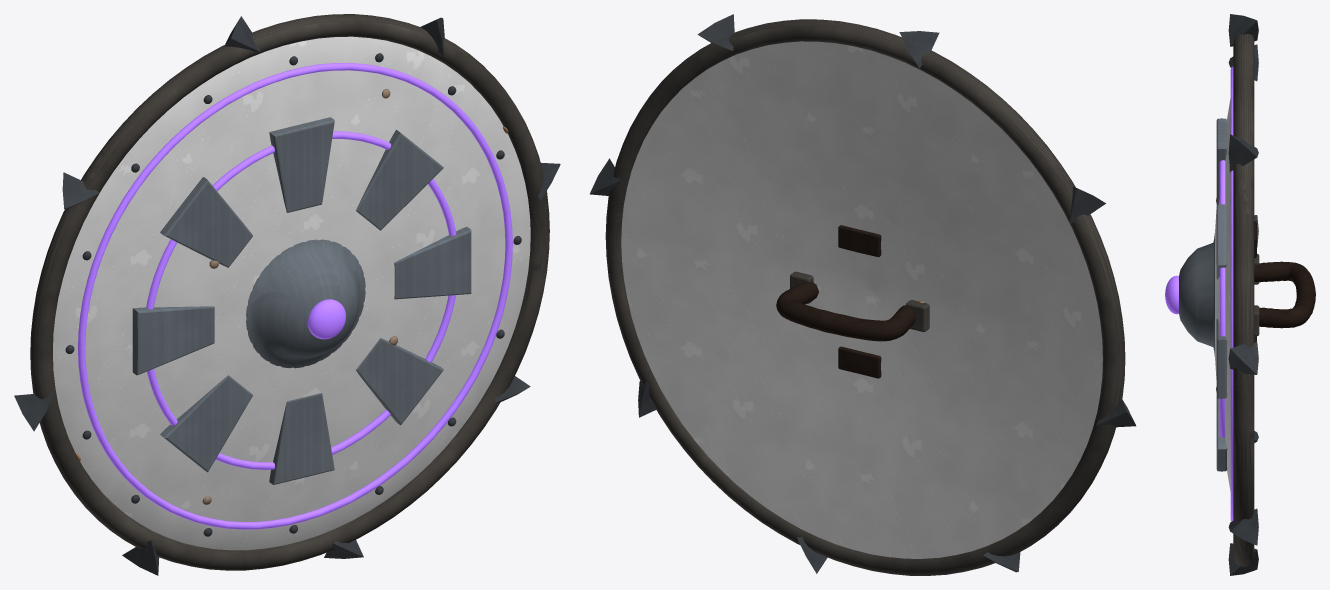
Rendered from void-disc.glb.
3 views of the same model, side by side, from view 1: azimuth 30°, elevation 25°; view 2: azimuth 150°, elevation 25°; view 3: azimuth 270°, elevation 25° (orthographic). The views are drawn at different scales.
Visible parts, largest first — view 1: ceramic / ceramic composite panel, alloy / machined anodized alloy, iron / hammer-scaled wrought iron, energy / emissive field channel, darksteel / oil-blackened fittings; view 2: ceramic / ceramic composite panel, iron / hammer-scaled wrought iron, leather / oiled leather wrap, darksteel / oil-blackened fittings; view 3: iron / hammer-scaled wrought iron, alloy / machined anodized alloy, darksteel / oil-blackened fittings, energy / emissive field channel, leather / oiled leather wrap, ceramic / ceramic composite panel.
Part boxes in pixels (<box>): ceramic / ceramic composite panel: <box>53,36,530,550</box>; alloy / machined anodized alloy: <box>132,117,471,484</box>; iron / hammer-scaled wrought iron: <box>30,14,549,570</box>; energy / emissive field channel: <box>78,63,512,529</box>; darksteel / oil-blackened fittings: <box>14,16,560,575</box>; ceramic / ceramic composite panel: <box>621,41,1102,558</box>; iron / hammer-scaled wrought iron: <box>605,19,1125,575</box>; leather / oiled leather wrap: <box>776,225,915,378</box>; darksteel / oil-blackened fittings: <box>590,14,1135,573</box>; iron / hammer-scaled wrought iron: <box>1233,34,1259,566</box>; alloy / machined anodized alloy: <box>1179,118,1227,471</box>; darksteel / oil-blackened fittings: <box>1228,14,1258,575</box>; energy / emissive field channel: <box>1165,67,1233,521</box>; leather / oiled leather wrap: <box>1254,221,1315,342</box>; ceramic / ceramic composite panel: <box>1215,98,1230,491</box>.
Bounding box in the file's own units: 0.6483 × 0.6483 × 0.1729.
8 materials, 5 textured.
